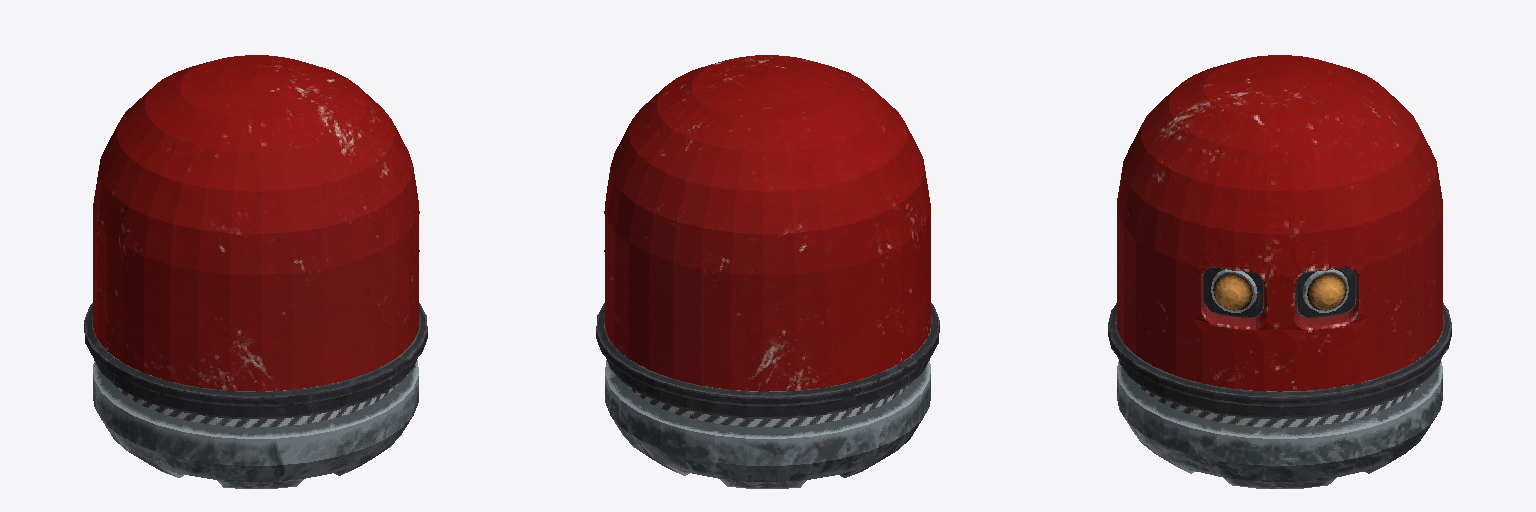
3 renders of one model, left to right at view 1: azimuth 30°, elevation 25°; view 2: azimuth 150°, elevation 25°; view 3: azimuth 270°, elevation 25°, orthographic.
Visible parts, largest first — view 1: Object_477; view 2: Object_477; view 3: Object_477.
Part boxes in pixels (left/top/right/bottom): Object_477: left=84, top=55, right=427, bottom=488; Object_477: left=596, top=55, right=939, bottom=488; Object_477: left=1108, top=55, right=1451, bottom=488.
Size of the model in its own units: 0.5006 by 0.5779 by 0.5006.
1 materials, 1 textured.